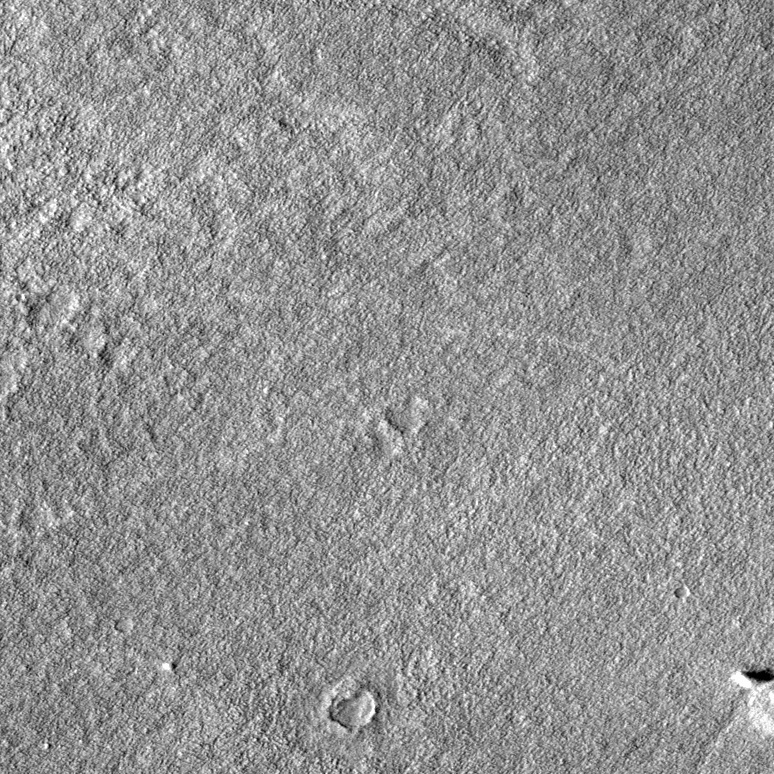dust_devil: (730, 666, 774, 690)
